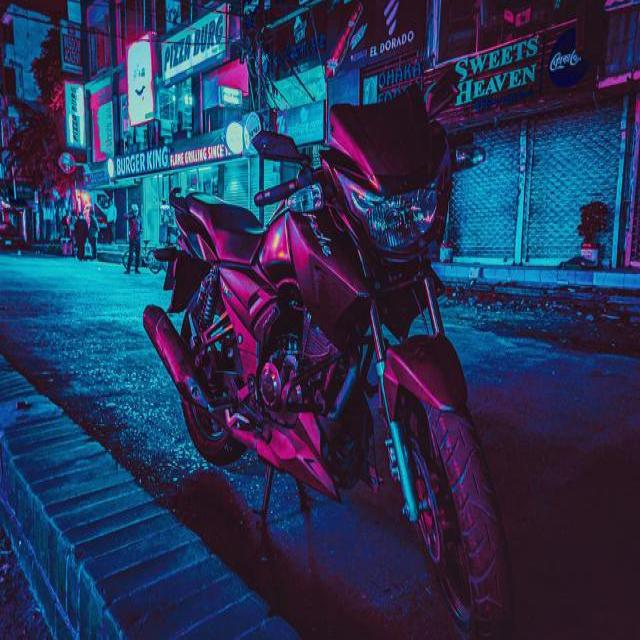motorbike: (142, 73, 518, 637)
